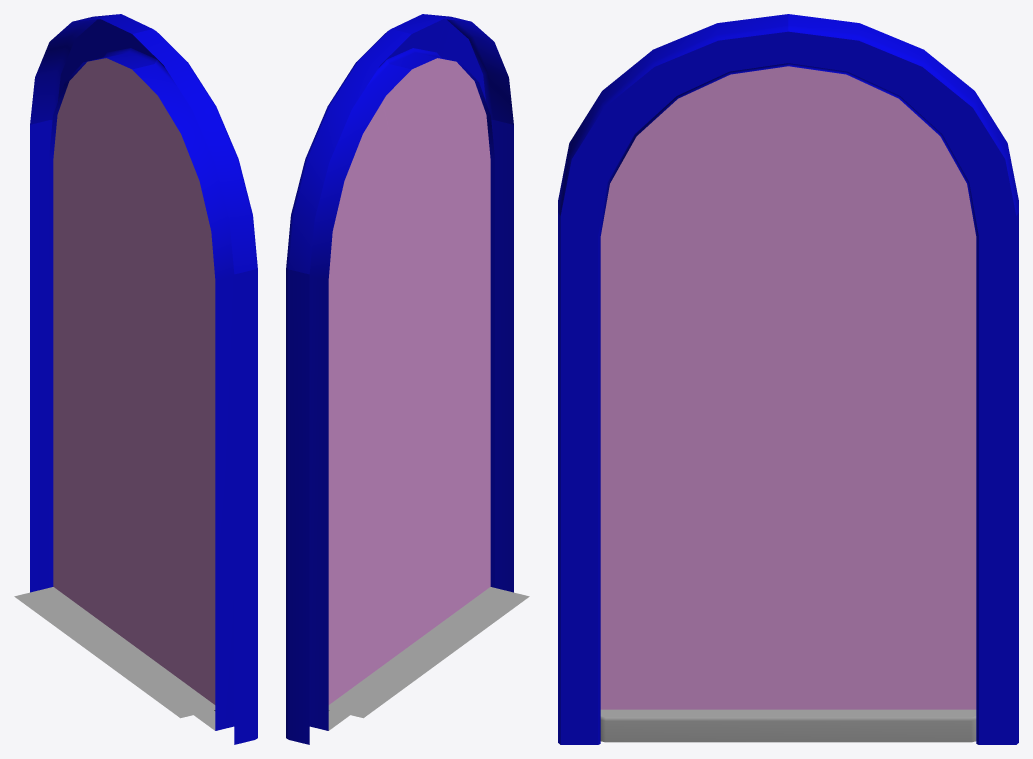
The model's file is Dom_znati_dver_2.fbx.
3 views of the same model, side by side, from view 1: azimuth 30°, elevation 25°; view 2: azimuth 150°, elevation 25°; view 3: azimuth 270°, elevation 25° (orthographic). The views are drawn at different scales.
Visible parts, largest first — view 1: Dom_znati_dver_2; view 2: Dom_znati_dver_2; view 3: Dom_znati_dver_2.
Part boxes in pixels (x1,y1,x2,y2): Dom_znati_dver_2: (14, 14, 257, 744); Dom_znati_dver_2: (286, 14, 529, 744); Dom_znati_dver_2: (558, 14, 1018, 744).
Size of the model in its own units: 1.76 by 17.92 by 10.44.
